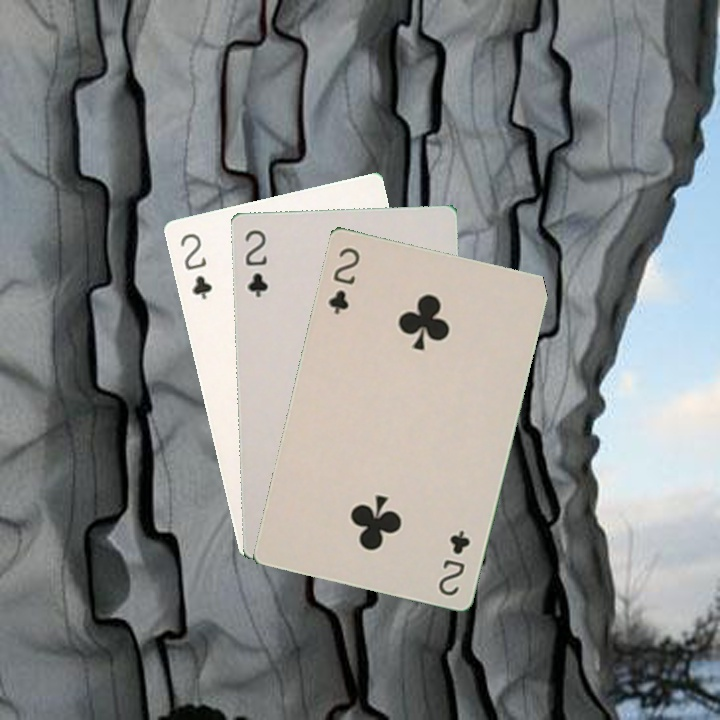2c: (324, 243, 363, 317), (176, 229, 215, 302), (434, 526, 473, 599), (241, 226, 270, 300)
